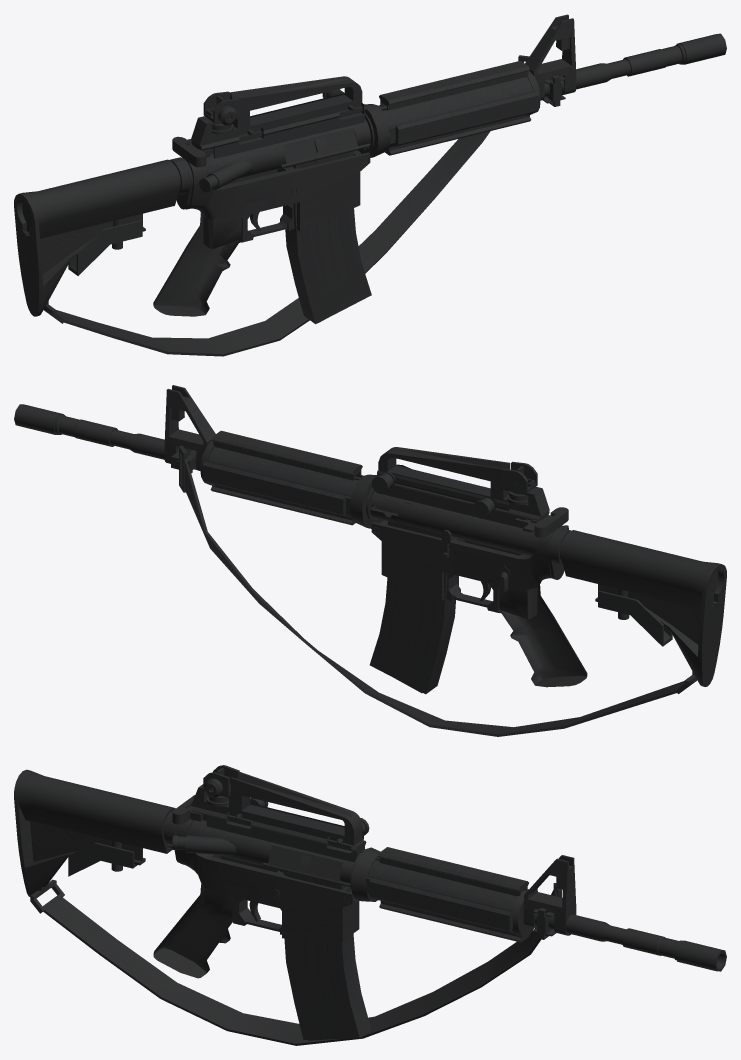
The model's file is M4_lowPoly_02.dae.
3 renders of one model, top to bottom at view 1: azimuth 30°, elevation 25°; view 2: azimuth 150°, elevation 25°; view 3: azimuth 330°, elevation 25°, orthographic.
Parts seen in each view (by area): view 1: Buttstock, Strap, Lower_Receiver, Upper_Handguard, Tube, Gun_Carrying_Handle, Pistol_Grip, Upper_Receiver, Barrel_Assembly, Ejection_Port_Cover, Buttstock_Release_Lever, Lower_Handguard (+4 smaller); view 2: Buttstock, Upper_Handguard, Lower_Receiver, Tube, Upper_Receiver, Strap, Pistol_Grip, Barrel_Assembly, Gun_Carrying_Handle, Buttstock_Release_Lever, Lower_Handguard, Clamping_Bar (+4 smaller); view 3: Buttstock, Strap, Lower_Receiver, Upper_Handguard, Tube, Gun_Carrying_Handle, Barrel_Assembly, Upper_Receiver, Pistol_Grip, Ejection_Port_Cover, Buttstock_Release_Lever, Lower_Handguard (+5 smaller).
Part boxes in pixels (bbox=[...]): Buttstock: bbox=[14, 159, 179, 316]; Strap: bbox=[56, 131, 490, 356]; Lower_Receiver: bbox=[182, 151, 370, 242]; Upper_Handguard: bbox=[378, 60, 538, 145]; Tube: bbox=[285, 151, 371, 324]; Gun_Carrying_Handle: bbox=[191, 76, 364, 145]; Pistol_Grip: bbox=[153, 213, 242, 316]; Upper_Receiver: bbox=[191, 106, 374, 189]; Barrel_Assembly: bbox=[525, 14, 682, 115]; Ejection_Port_Cover: bbox=[283, 128, 358, 167]; Buttstock_Release_Lever: bbox=[68, 220, 142, 275]; Lower_Handguard: bbox=[385, 107, 539, 155]; Buttstock: bbox=[561, 530, 726, 686]; Upper_Handguard: bbox=[203, 430, 363, 515]; Lower_Receiver: bbox=[371, 521, 560, 612]; Tube: bbox=[369, 520, 457, 694]; Upper_Receiver: bbox=[366, 476, 549, 555]; Strap: bbox=[184, 459, 684, 736]; Pistol_Grip: bbox=[498, 585, 587, 687]; Barrel_Assembly: bbox=[58, 385, 215, 485]; Gun_Carrying_Handle: bbox=[378, 447, 549, 516]; Buttstock_Release_Lever: bbox=[598, 590, 672, 646]; Lower_Handguard: bbox=[210, 484, 355, 525]; Clamping_Bar: bbox=[377, 470, 509, 512]; Buttstock: bbox=[14, 769, 175, 896]; Strap: bbox=[43, 890, 553, 1045]; Lower_Receiver: bbox=[176, 819, 359, 941]; Upper_Handguard: bbox=[366, 847, 528, 932]; Tube: bbox=[283, 871, 371, 1039]; Gun_Carrying_Handle: bbox=[191, 771, 362, 853]; Barrel_Assembly: bbox=[512, 855, 678, 958]; Upper_Receiver: bbox=[185, 806, 366, 901]; Pistol_Grip: bbox=[153, 884, 232, 978]; Ejection_Port_Cover: bbox=[267, 845, 342, 884]; Buttstock_Release_Lever: bbox=[68, 842, 137, 876]; Lower_Handguard: bbox=[379, 901, 533, 942].
Size of the model in its own units: 75.66 by 27.53 by 9.5.
Materials: 1 (1 with a texture image).
